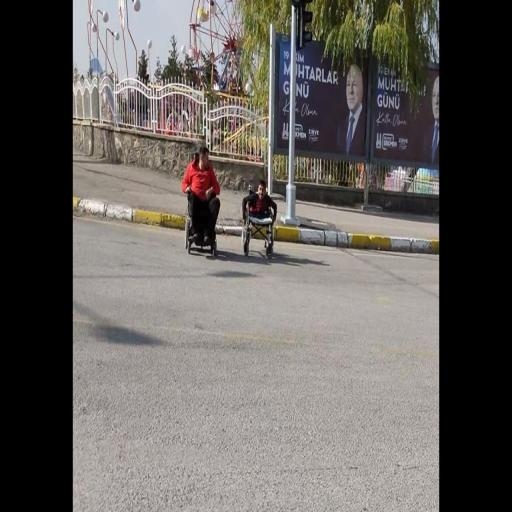cadeira_de_rodas: (183, 141, 223, 260), (242, 178, 277, 259)
